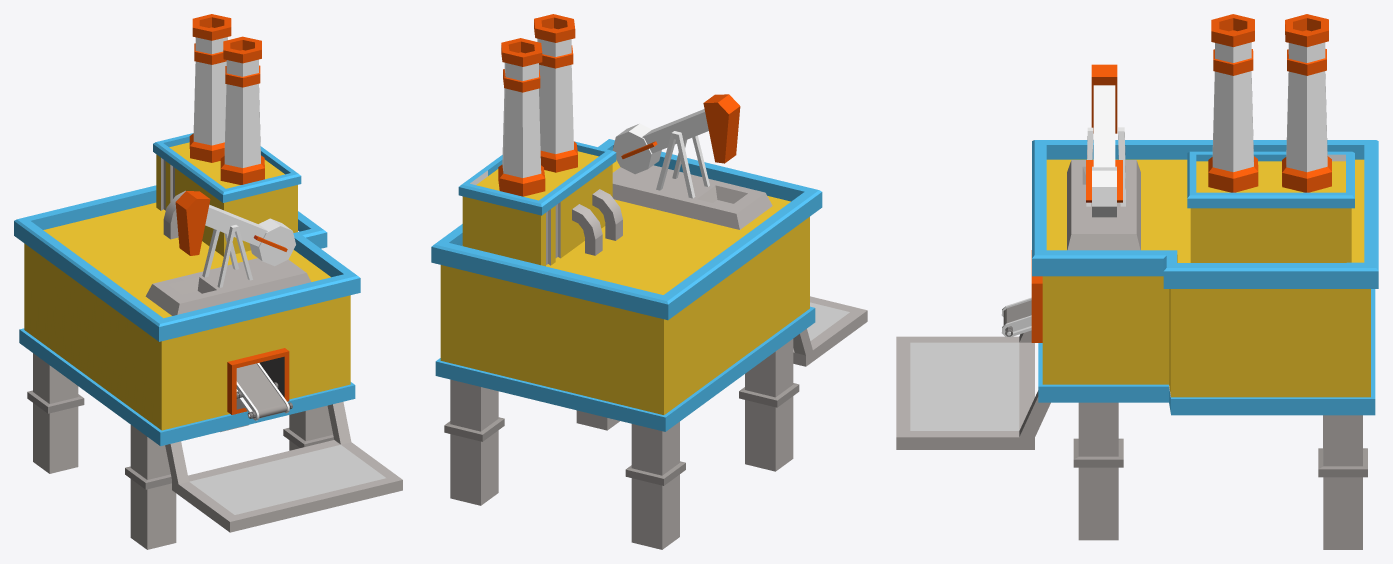
File: factory_base.fbx
The picture shows the model from 3 angles, left to right: view 1: azimuth 30°, elevation 25°; view 2: azimuth 150°, elevation 25°; view 3: azimuth 270°, elevation 25°; orthographic projection. The views are drawn at different scales.
Visible parts, largest first — view 1: factory_base.004, factory_base.006, factory_base.008, factory_base.007, rig.003, factory_base.005, rig.002; view 2: factory_base.004, factory_base.008, factory_base.007, rig.003, factory_base.006, rig.002; view 3: factory_base.004, factory_base.006, factory_base.008, factory_base.007, rig.003, factory_base.005, rig.002.
Part boxes in pixels (left/top/right/bottom): factory_base.004: left=14, top=14, right=360, bottom=446; factory_base.006: left=165, top=402, right=402, bottom=532; factory_base.008: left=27, top=353, right=334, bottom=549; factory_base.007: left=145, top=225, right=311, bottom=315; rig.003: left=205, top=204, right=295, bottom=266; factory_base.005: left=236, top=363, right=292, bottom=420; rig.002: left=175, top=191, right=210, bottom=255; factory_base.004: left=431, top=14, right=822, bottom=431; factory_base.008: left=444, top=339, right=799, bottom=549; factory_base.007: left=612, top=131, right=772, bottom=229; rig.003: left=612, top=109, right=708, bottom=174; factory_base.006: left=793, top=296, right=867, bottom=366; rig.002: left=703, top=94, right=740, bottom=163; factory_base.004: left=1031, top=14, right=1378, bottom=415; factory_base.006: left=896, top=330, right=1050, bottom=449; factory_base.008: left=1073, top=402, right=1367, bottom=549; factory_base.007: left=1067, top=127, right=1140, bottom=250; rig.003: left=1086, top=85, right=1122, bottom=217; factory_base.005: left=1001, top=297, right=1031, bottom=337; rig.002: left=1091, top=64, right=1117, bottom=133.
Bounding box in the file's own units: 295 × 528 × 463.
